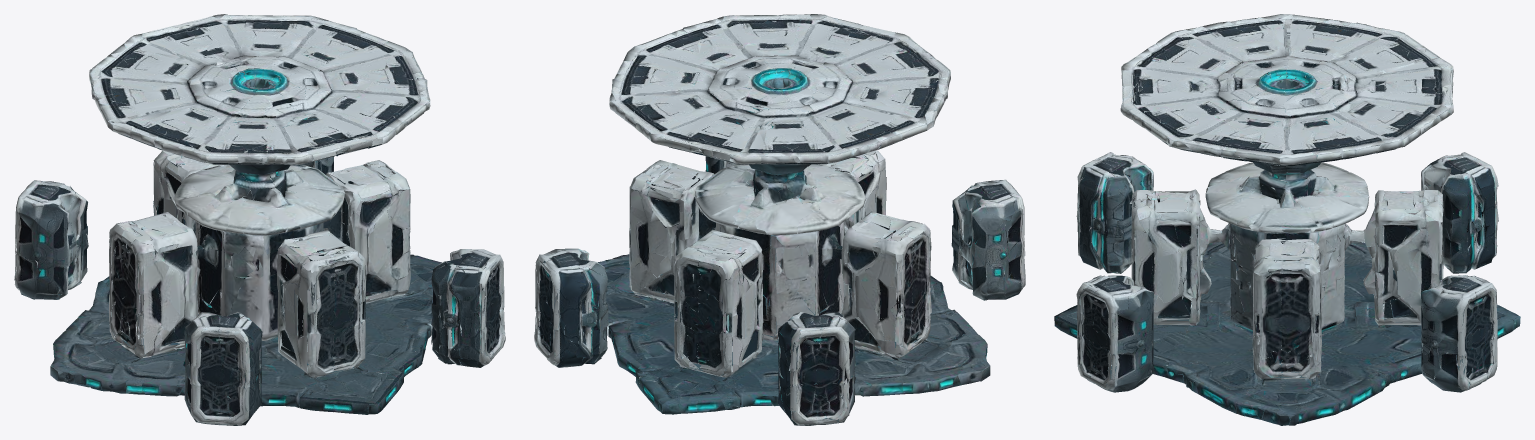
The model's file is sudo.glb.
The picture shows the model from 3 angles, left to right: view 1: azimuth 30°, elevation 25°; view 2: azimuth 150°, elevation 25°; view 3: azimuth 270°, elevation 25°; orthographic projection.
Parts seen in each view (by area): view 1: Mesh_0; view 2: Mesh_0; view 3: Mesh_0.
Boxes of the visible parts, x1,y1,x2,y2 form: Mesh_0: [14, 14, 505, 425]; Mesh_0: [534, 14, 1025, 425]; Mesh_0: [1054, 14, 1520, 425].
Size of the model in its own units: 1.9 by 1.1 by 1.88.
1 material, 1 textured.
